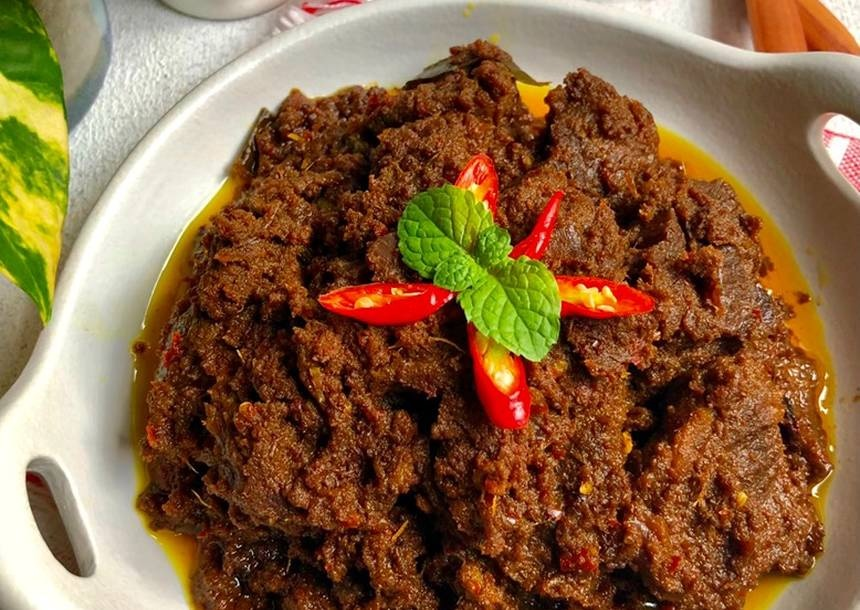rendang: (142, 60, 809, 602)
